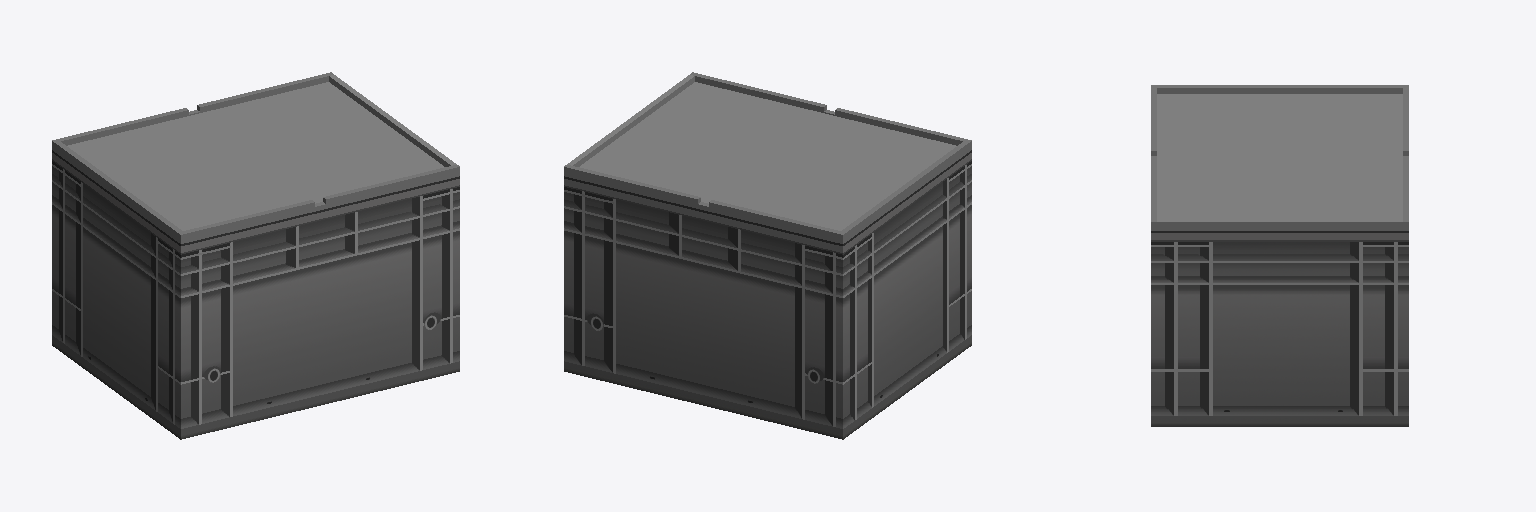
3 renders of one model, left to right at view 1: azimuth 30°, elevation 25°; view 2: azimuth 150°, elevation 25°; view 3: azimuth 270°, elevation 25°, orthographic.
Visible parts, largest first — view 1: Mesh1; view 2: Mesh1; view 3: Mesh1.
Boxes of the visible parts, box(x1,y1,x2,y2) form: Mesh1: box(52, 72, 459, 439); Mesh1: box(564, 72, 971, 439); Mesh1: box(1151, 85, 1408, 426).
Bounding box in the file's own units: 500 × 350 × 400.
1 materials, 1 textured.